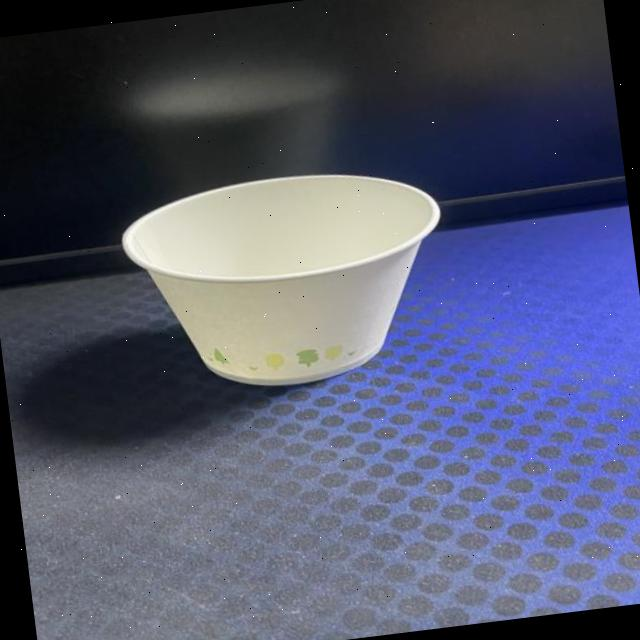trash: (116, 156, 462, 405)
